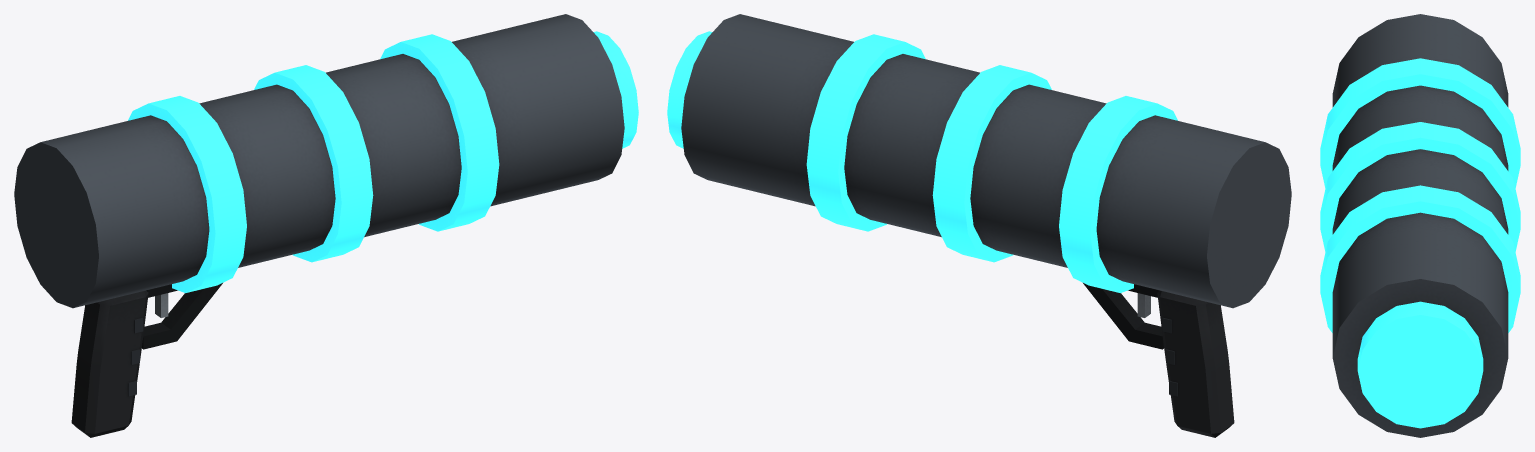
Rendered from opr_wpn_pulse_cannon_a.glb.
3 renders of one model, left to right at view 1: azimuth 30°, elevation 25°; view 2: azimuth 150°, elevation 25°; view 3: azimuth 270°, elevation 25°, orthographic. The views are drawn at different scales.
Visible parts, largest first — view 1: mesh_intact; view 2: mesh_intact; view 3: mesh_intact.
Part boxes in pixels (x1,y1,x2,y2): mesh_intact: (14, 14, 638, 437); mesh_intact: (667, 14, 1291, 437); mesh_intact: (1320, 14, 1520, 437).
Bounding box in the file's own units: 0.525 × 0.275 × 0.16.
1 material, 1 textured.
